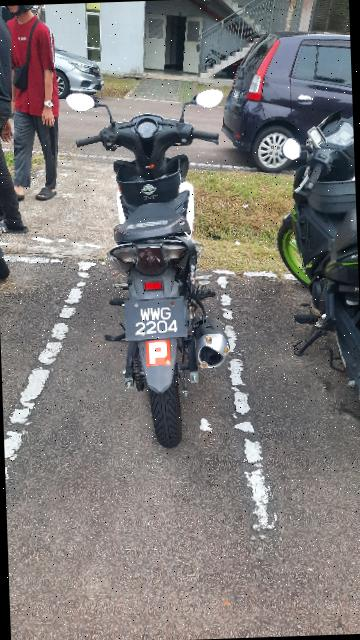License_Plate: (126, 299, 191, 339)
car: (211, 18, 355, 170)
motorcycle: (64, 74, 257, 465)
